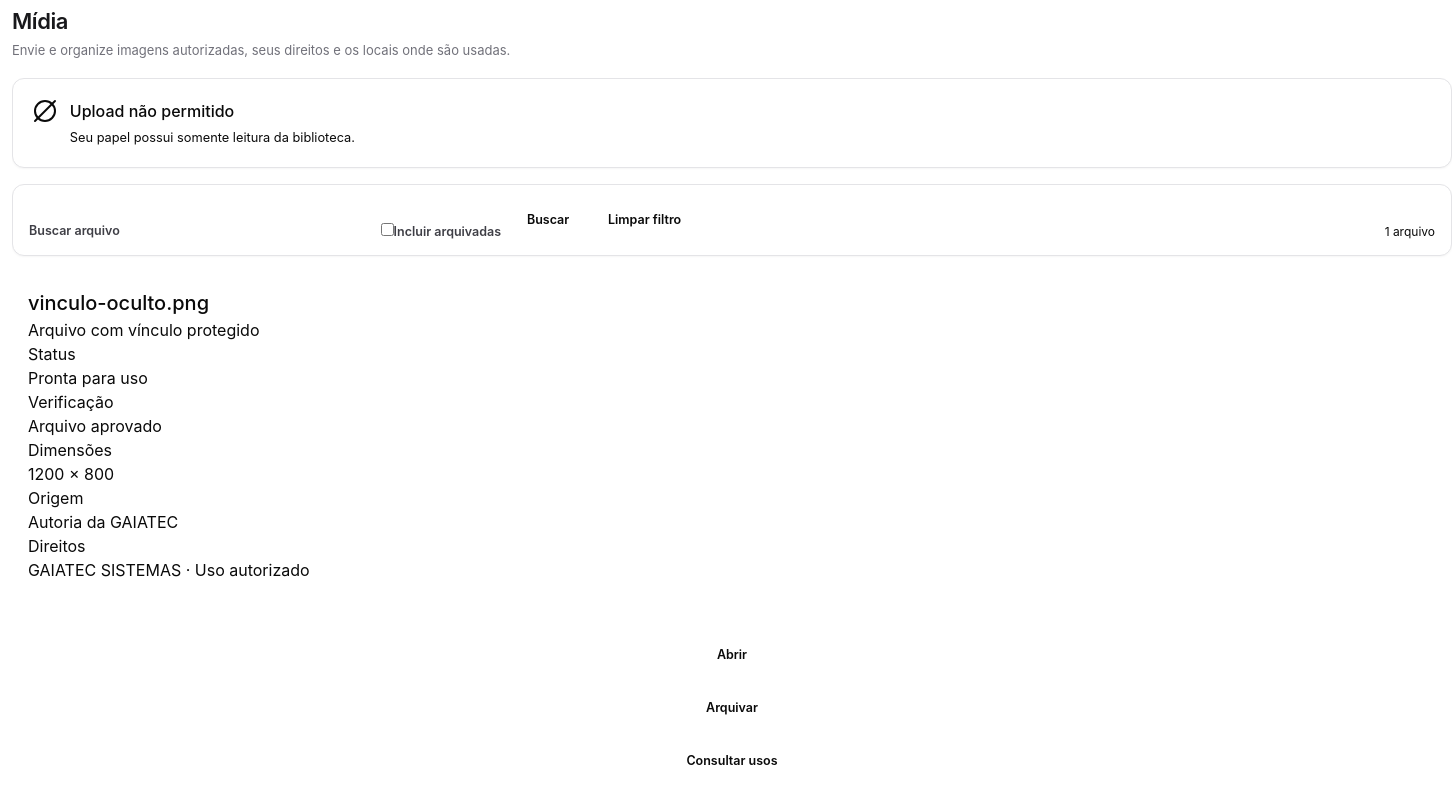
Scenario: compensação do envio de mídia › mantém o arquivamento bloqueado quando há vínculos fora do escopo de leitura
The width and height of the screenshot is (1452, 797).
Click the button with aria-label "Consultar usos de vinculo-oculto.png": (732, 762) [48,741,1416,783]
(page scrolled)
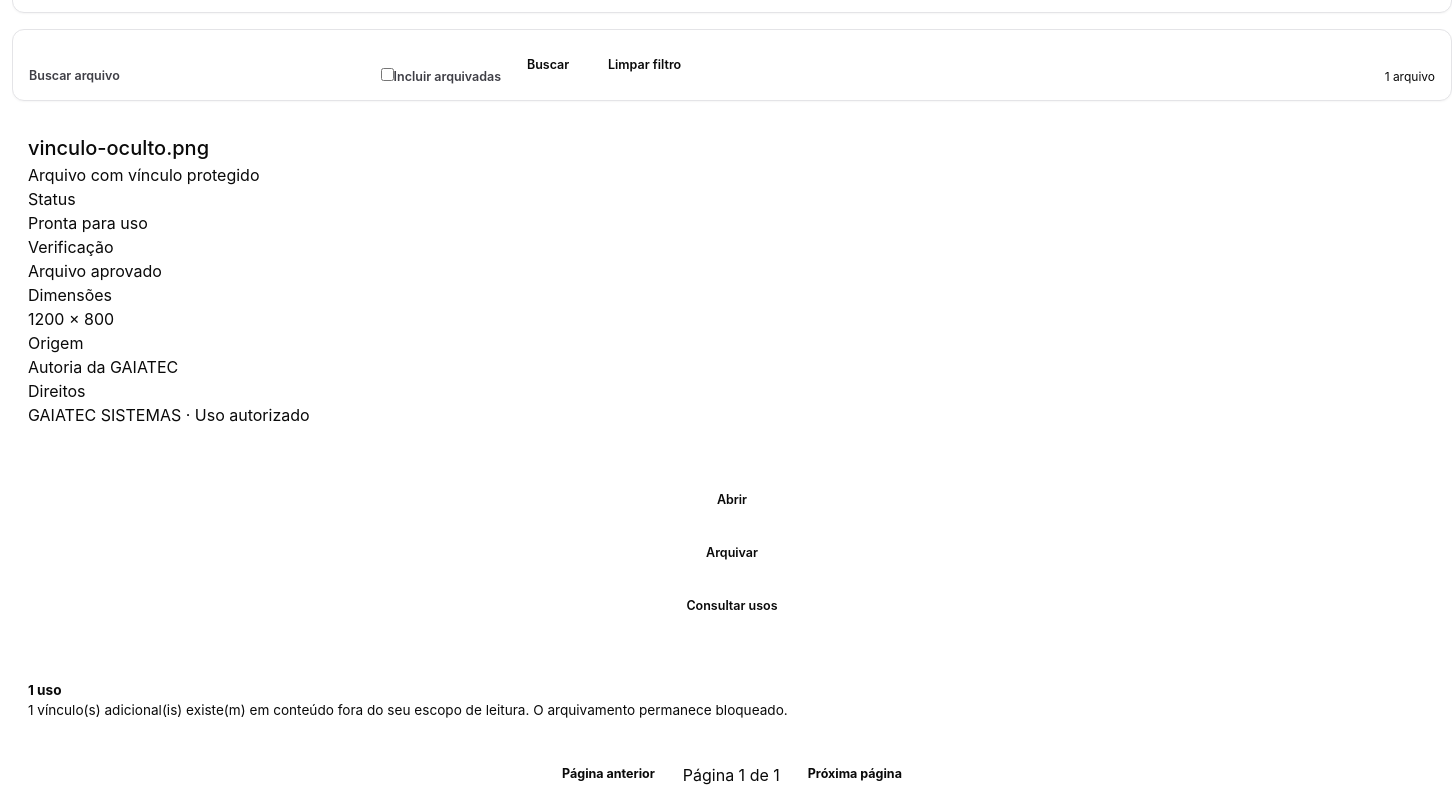
Expected: the button with aria-label "Arquivar vinculo-oculto.png" is disabled, [48,533,1416,575]
Now the text "fora do seu escopo de leitura" is shown, box [34,702,788,718]
